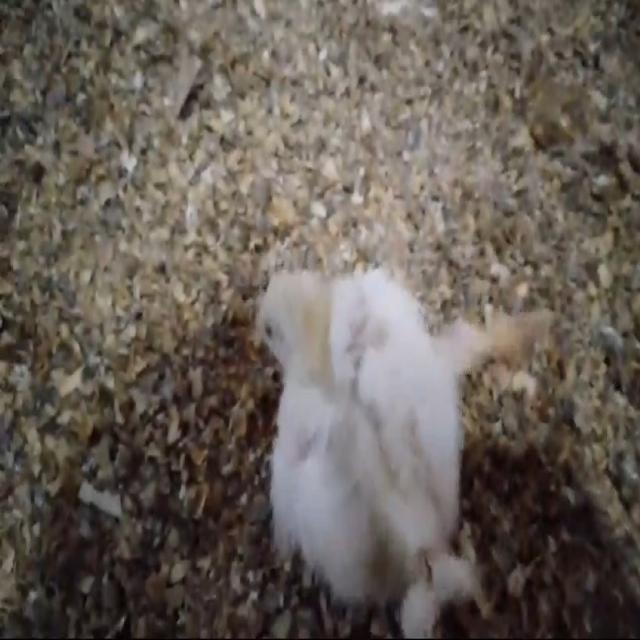abnormal chicken: (226, 199, 554, 633)
